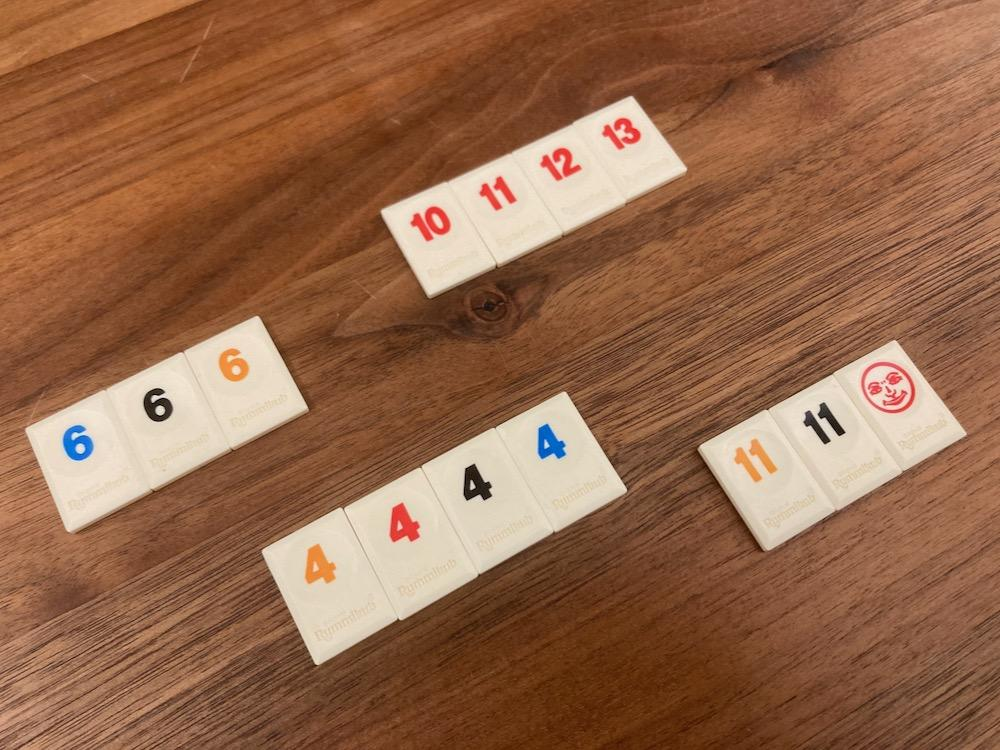black_11: (771, 377, 900, 510)
black_4: (422, 430, 553, 571)
black_6: (107, 354, 229, 490)
blue_4: (496, 393, 627, 530)
blue_6: (25, 391, 150, 532)
joker: (834, 342, 965, 470)
orange_11: (699, 410, 834, 551)
orange_4: (262, 508, 396, 664)
orange_6: (186, 316, 307, 446)
red_10: (381, 184, 496, 297)
red_11: (451, 154, 562, 265)
red_12: (514, 127, 625, 231)
red_13: (574, 96, 686, 200)
red_4: (344, 469, 477, 618)
